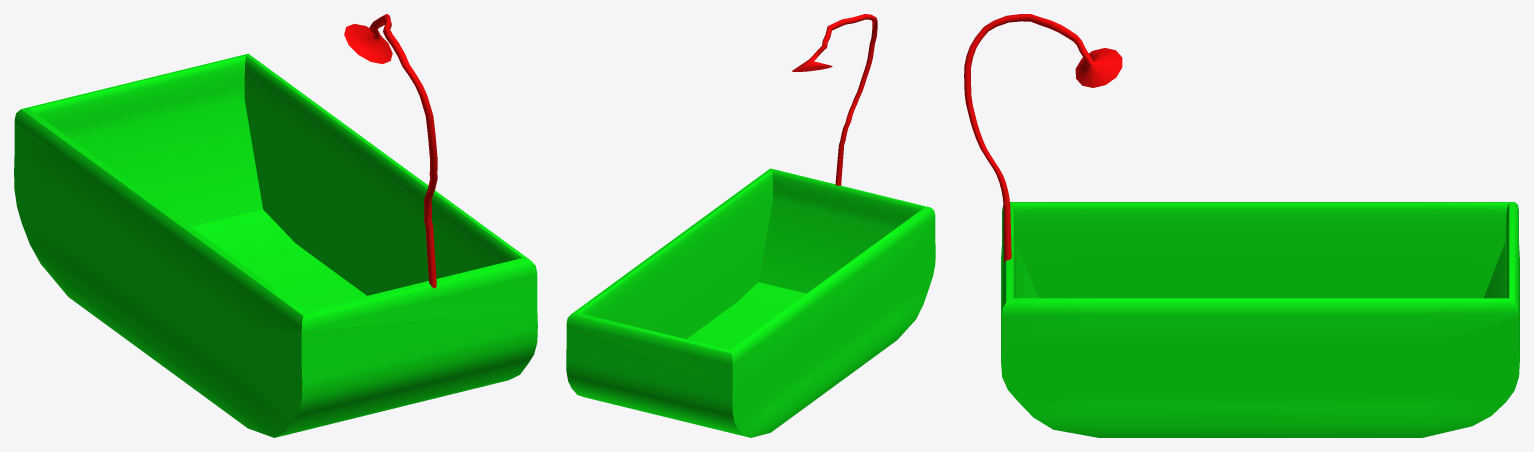
Rendered from Bain douche.FBX.
The picture shows the model from 3 angles, left to right: view 1: azimuth 30°, elevation 25°; view 2: azimuth 150°, elevation 25°; view 3: azimuth 270°, elevation 25°; orthographic projection. The views are drawn at different scales.
Parts seen in each view (by area): view 1: Bain douche001; view 2: Bain douche001; view 3: Bain douche001.
Boxes of the visible parts, x1,y1,x2,y2 form: Bain douche001: (14, 14, 537, 437); Bain douche001: (566, 14, 935, 437); Bain douche001: (964, 14, 1519, 437).
Size of the model in its own units: 92.17 by 148 by 204.
